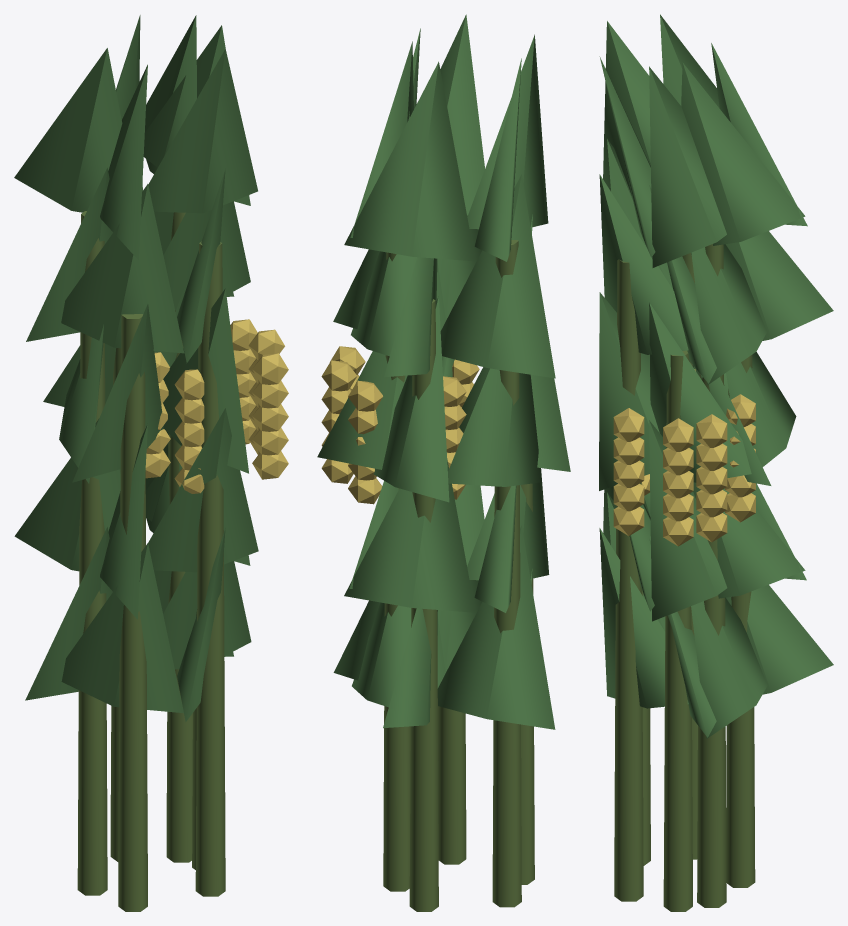
Rendered from crop-rice-stage-4-ripe.glb.
3 views of the same model, side by side, from view 1: azimuth 30°, elevation 25°; view 2: azimuth 150°, elevation 25°; view 3: azimuth 270°, elevation 25° (orthographic). The views are drawn at different scales.
Parts seen in each view (by area): view 1: crop-rice-stage-4-ripe-beach-foliage, crop-rice-stage-4-ripe-beach-stem, crop-rice-stage-4-ripe-beach-fruit; view 2: crop-rice-stage-4-ripe-beach-foliage, crop-rice-stage-4-ripe-beach-stem, crop-rice-stage-4-ripe-beach-fruit; view 3: crop-rice-stage-4-ripe-beach-foliage, crop-rice-stage-4-ripe-beach-stem, crop-rice-stage-4-ripe-beach-fruit.
Boxes of the visible parts, <box> form: crop-rice-stage-4-ripe-beach-foliage: <box>14,15,258,721</box>; crop-rice-stage-4-ripe-beach-stem: <box>77,211,225,911</box>; crop-rice-stage-4-ripe-beach-fruit: <box>145,319,288,493</box>; crop-rice-stage-4-ripe-beach-foliage: <box>317,14,570,729</box>; crop-rice-stage-4-ripe-beach-stem: <box>383,240,534,911</box>; crop-rice-stage-4-ripe-beach-fruit: <box>321,346,479,504</box>; crop-rice-stage-4-ripe-beach-foliage: <box>599,14,833,738</box>; crop-rice-stage-4-ripe-beach-stem: <box>614,244,755,911</box>; crop-rice-stage-4-ripe-beach-fruit: <box>613,369,755,546</box>.
Bounding box in the file's own units: 0.4827 × 1.64 × 0.4146.
